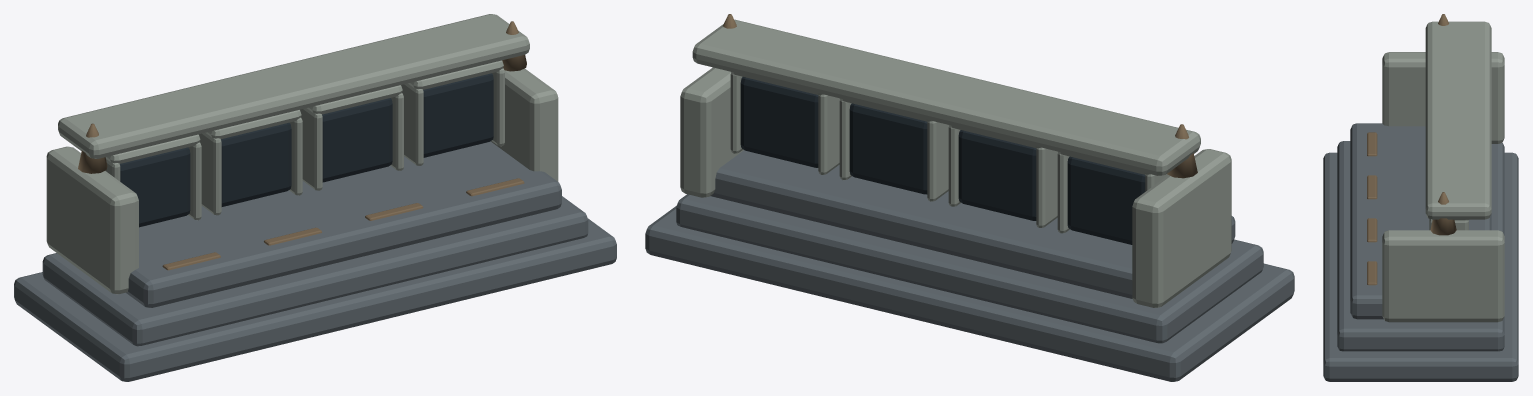
File: seal_shrine.glb
3 views of the same model, side by side, from view 1: azimuth 30°, elevation 25°; view 2: azimuth 150°, elevation 25°; view 3: azimuth 270°, elevation 25° (orthographic). The views are drawn at different scales.
Parts seen in each view (by area): view 1: Body__stone, Body__edge, Body__recess, Body__bronze; view 2: Body__stone, Body__edge, Body__recess, Body__bronze; view 3: Body__stone, Body__edge, Body__bronze.
Part boxes in pixels (<box>): Body__stone: <box>14,141,616,381</box>; Body__edge: <box>46,14,558,294</box>; Body__recess: <box>119,73,493,227</box>; Body__bronze: <box>78,21,526,270</box>; Body__stone: <box>645,150,1294,381</box>; Body__edge: <box>680,19,1231,307</box>; Body__recess: <box>740,77,1145,244</box>; Body__bronze: <box>723,14,1197,178</box>; Body__stone: <box>1323,123,1518,381</box>; Body__edge: <box>1382,21,1504,322</box>; Body__bronze: <box>1367,14,1456,285</box>.
Bounding box in the file's own units: 2.65 × 1.03 × 1.04.
